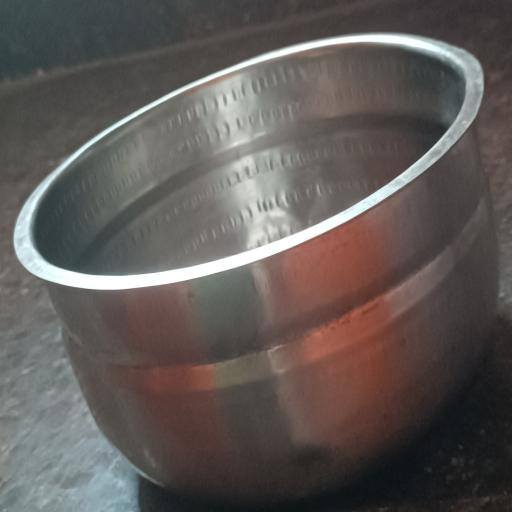vessel: (15, 34, 497, 497)
